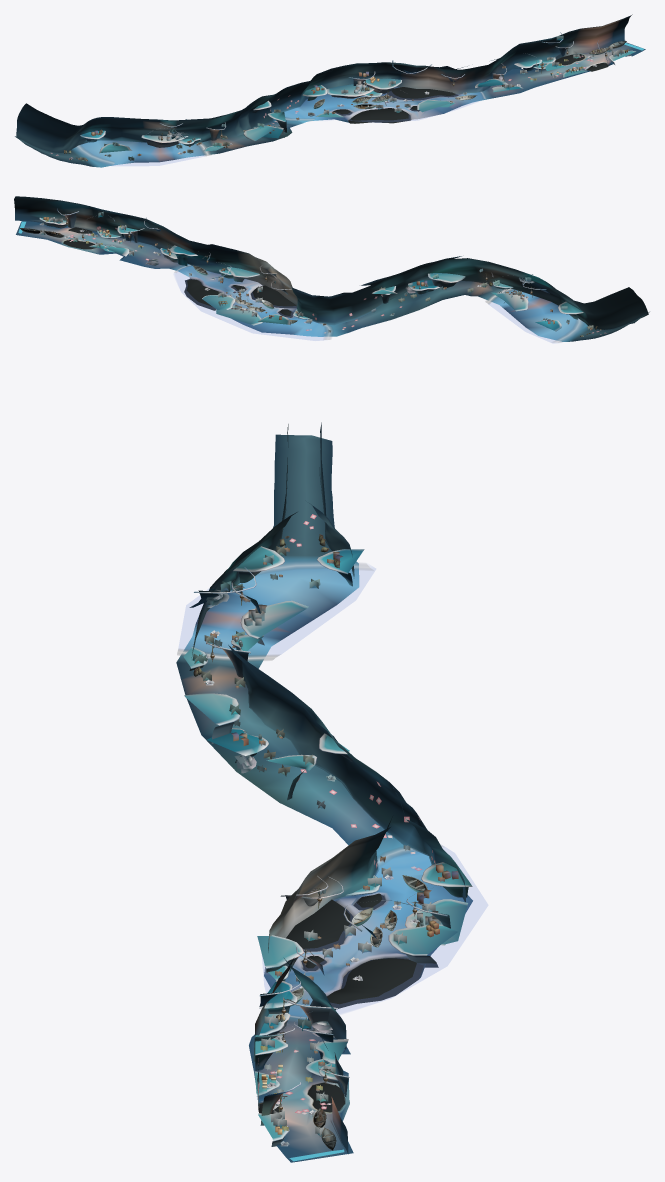
Rendered from 04Grotto.gltf.
3 views of the same model, one above another, from view 1: azimuth 30°, elevation 25°; view 2: azimuth 150°, elevation 25°; view 3: azimuth 270°, elevation 25° (orthographic). The views are drawn at different scales.
Visible parts, largest first — view 1: stg050_o10_Mesh_0035, stg050_o10_Mesh_0050, stg050_w11_Mesh_0001, stg050_g10_Mesh_0000, stg050_p10_Mesh_0001, stg050_o10_Mesh_0054, stg050_a10_Mesh_0015, stg050_o10_Mesh_0015, stg050_ripple_k_11_Mesh_0000, stg050_p10_Mesh_0000; view 2: stg050_o10_Mesh_0035, stg050_o10_Mesh_0050, stg050_w11_Mesh_0001, stg050_g10_Mesh_0000, stg050_p10_Mesh_0001, stg050_a10_Mesh_0015, stg050_o10_Mesh_0054, stg050_ripple_k_11_Mesh_0000, stg050_o10_Mesh_0015, stg050_p10_Mesh_0000; view 3: stg050_o10_Mesh_0050, stg050_o10_Mesh_0035, stg050_w11_Mesh_0001, stg050_g10_Mesh_0000, stg050_p10_Mesh_0001, stg050_o10_Mesh_0015, stg050_o10_Mesh_0054, stg050_a10_Mesh_0015, stg050_ripple_k_11_Mesh_0000.
Part boxes in pixels (bbox=[...]): stg050_o10_Mesh_0035: bbox=[16, 14, 632, 152]; stg050_o10_Mesh_0050: bbox=[15, 32, 645, 167]; stg050_w11_Mesh_0001: bbox=[80, 87, 483, 165]; stg050_g10_Mesh_0000: bbox=[332, 54, 607, 123]; stg050_p10_Mesh_0001: bbox=[80, 80, 440, 161]; stg050_o10_Mesh_0054: bbox=[313, 41, 626, 109]; stg050_a10_Mesh_0015: bbox=[16, 40, 625, 152]; stg050_o10_Mesh_0015: bbox=[91, 48, 629, 140]; stg050_ripple_k_11_Mesh_0000: bbox=[75, 91, 486, 164]; stg050_p10_Mesh_0000: bbox=[505, 35, 624, 89]; stg050_o10_Mesh_0035: bbox=[14, 196, 648, 331]; stg050_o10_Mesh_0050: bbox=[16, 208, 649, 341]; stg050_w11_Mesh_0001: bbox=[174, 266, 577, 343]; stg050_g10_Mesh_0000: bbox=[63, 227, 296, 317]; stg050_p10_Mesh_0001: bbox=[218, 274, 593, 329]; stg050_a10_Mesh_0015: bbox=[22, 220, 646, 329]; stg050_o10_Mesh_0054: bbox=[20, 228, 297, 323]; stg050_ripple_k_11_Mesh_0000: bbox=[174, 264, 583, 342]; stg050_o10_Mesh_0015: bbox=[43, 216, 554, 324]; stg050_p10_Mesh_0000: bbox=[40, 211, 171, 255]; stg050_o10_Mesh_0050: bbox=[176, 434, 472, 1162]; stg050_o10_Mesh_0035: bbox=[189, 422, 468, 1154]; stg050_w11_Mesh_0001: bbox=[179, 566, 487, 1017]; stg050_g10_Mesh_0000: bbox=[258, 893, 423, 1113]; stg050_p10_Mesh_0001: bbox=[192, 545, 435, 981]; stg050_o10_Mesh_0015: bbox=[212, 551, 458, 1134]; stg050_o10_Mesh_0054: bbox=[290, 875, 427, 1150]; stg050_a10_Mesh_0015: bbox=[236, 435, 432, 1150]; stg050_ripple_k_11_Mesh_0000: bbox=[177, 561, 443, 1018].
Bounding box in the file's own units: 428 × 68.44 × 91.78.
